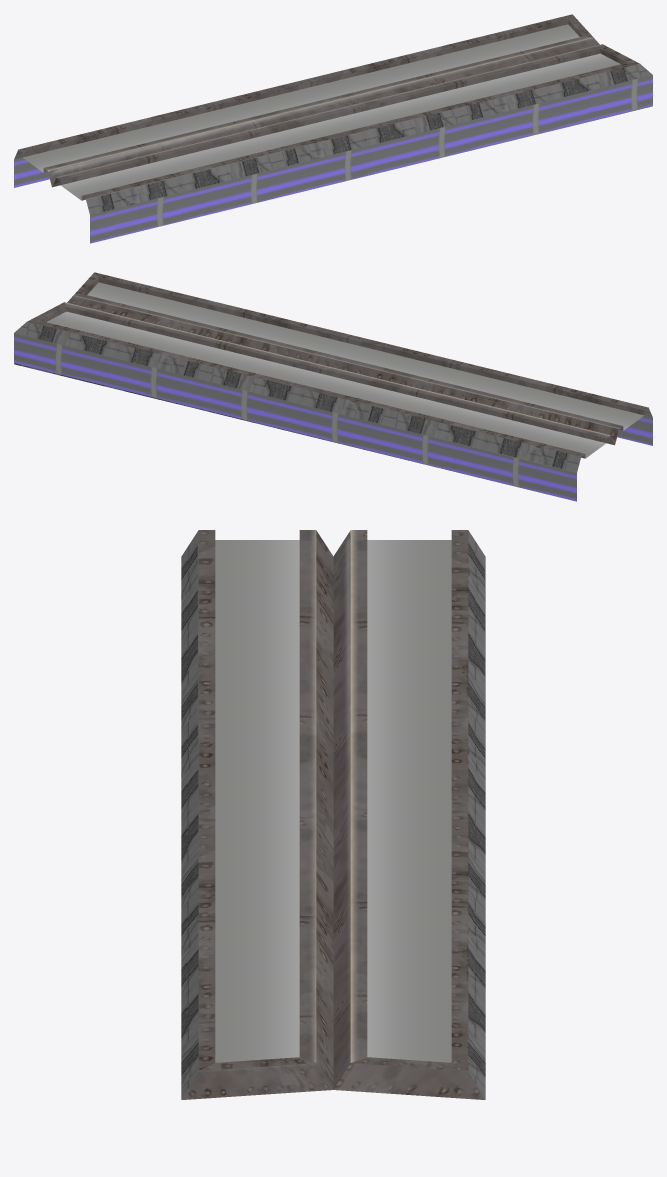
The model's file is pm-top-beam.glb.
3 renders of one model, top to bottom at view 1: azimuth 30°, elevation 25°; view 2: azimuth 150°, elevation 25°; view 3: azimuth 270°, elevation 25°, orthographic. The views are drawn at different scales.
Parts seen in each view (by area): view 1: Top_Beam; view 2: Top_Beam; view 3: Top_Beam.
Boxes of the visible parts, x1=… form: Top_Beam: x1=14, y1=14, x2=652, y2=243; Top_Beam: x1=14, y1=272, x2=652, y2=501; Top_Beam: x1=181, y1=530, x2=485, y2=1099.
Size of the model in its own units: 3.27 by 0.2308 by 0.7638.
Materials: 1 (1 with a texture image).
